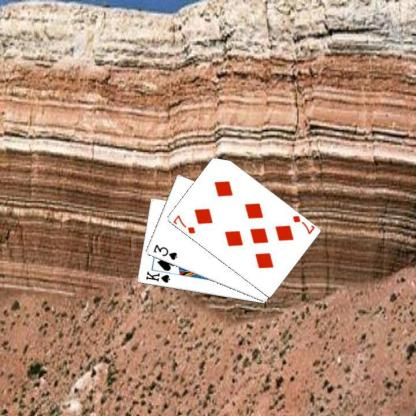3S: (150, 242, 178, 261)
7D: (289, 213, 315, 236), (171, 212, 196, 235)
KS: (143, 269, 171, 284)
